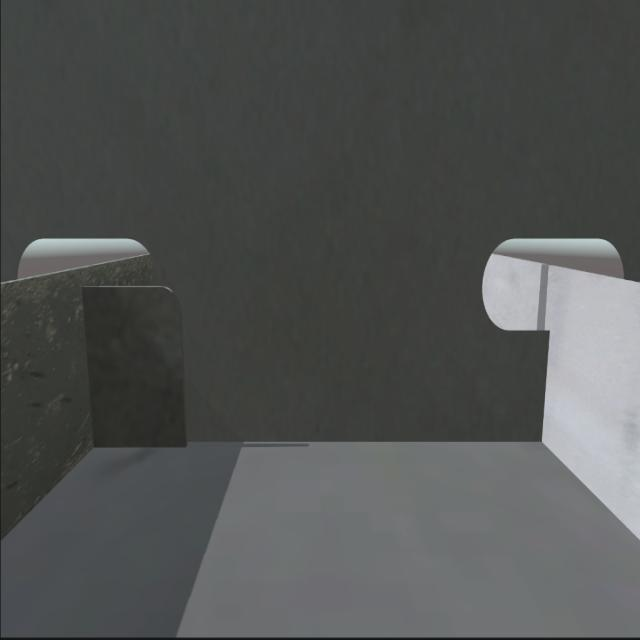fillet_yong_jeop_jang: (84, 430, 550, 454)
longi_yong_jeop_jang: (77, 283, 101, 456), (535, 326, 554, 447)
plate_CP05: (80, 284, 186, 450)
